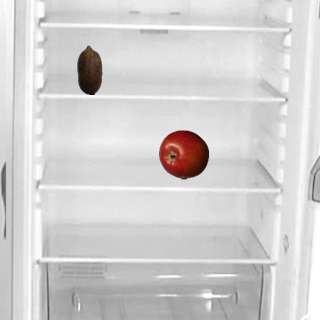Apple Braeburn: (158, 129, 208, 179)
Nut Pecan: (64, 44, 114, 94)
